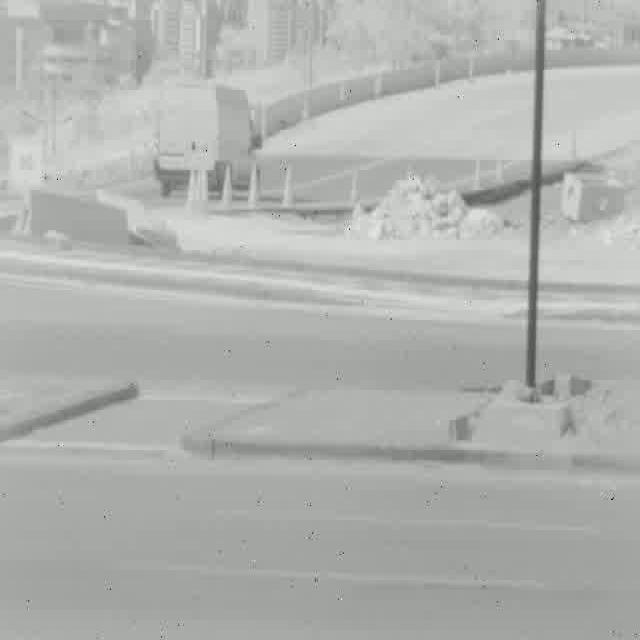Car: (154, 83, 260, 193)
